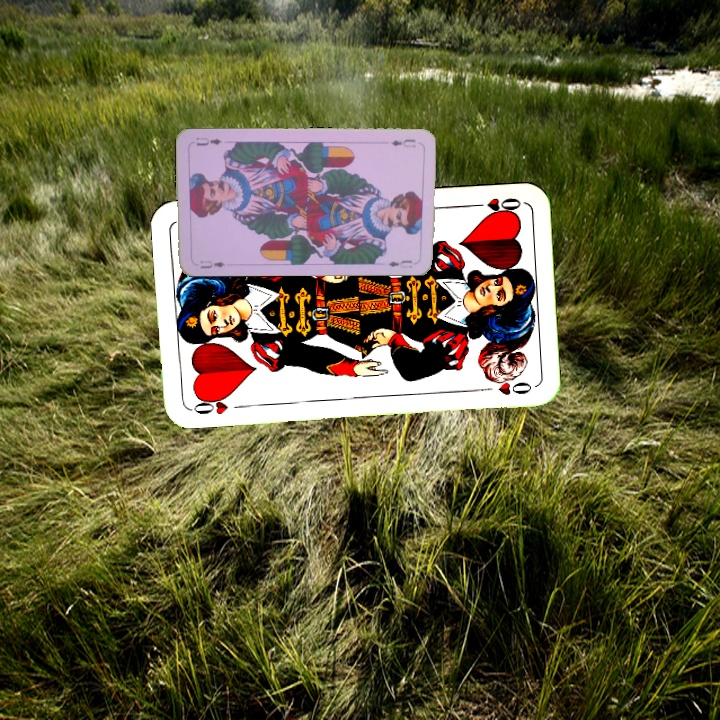EU: (387, 135, 418, 150), (196, 257, 227, 271)
HO: (465, 193, 523, 217), (186, 391, 233, 417)
